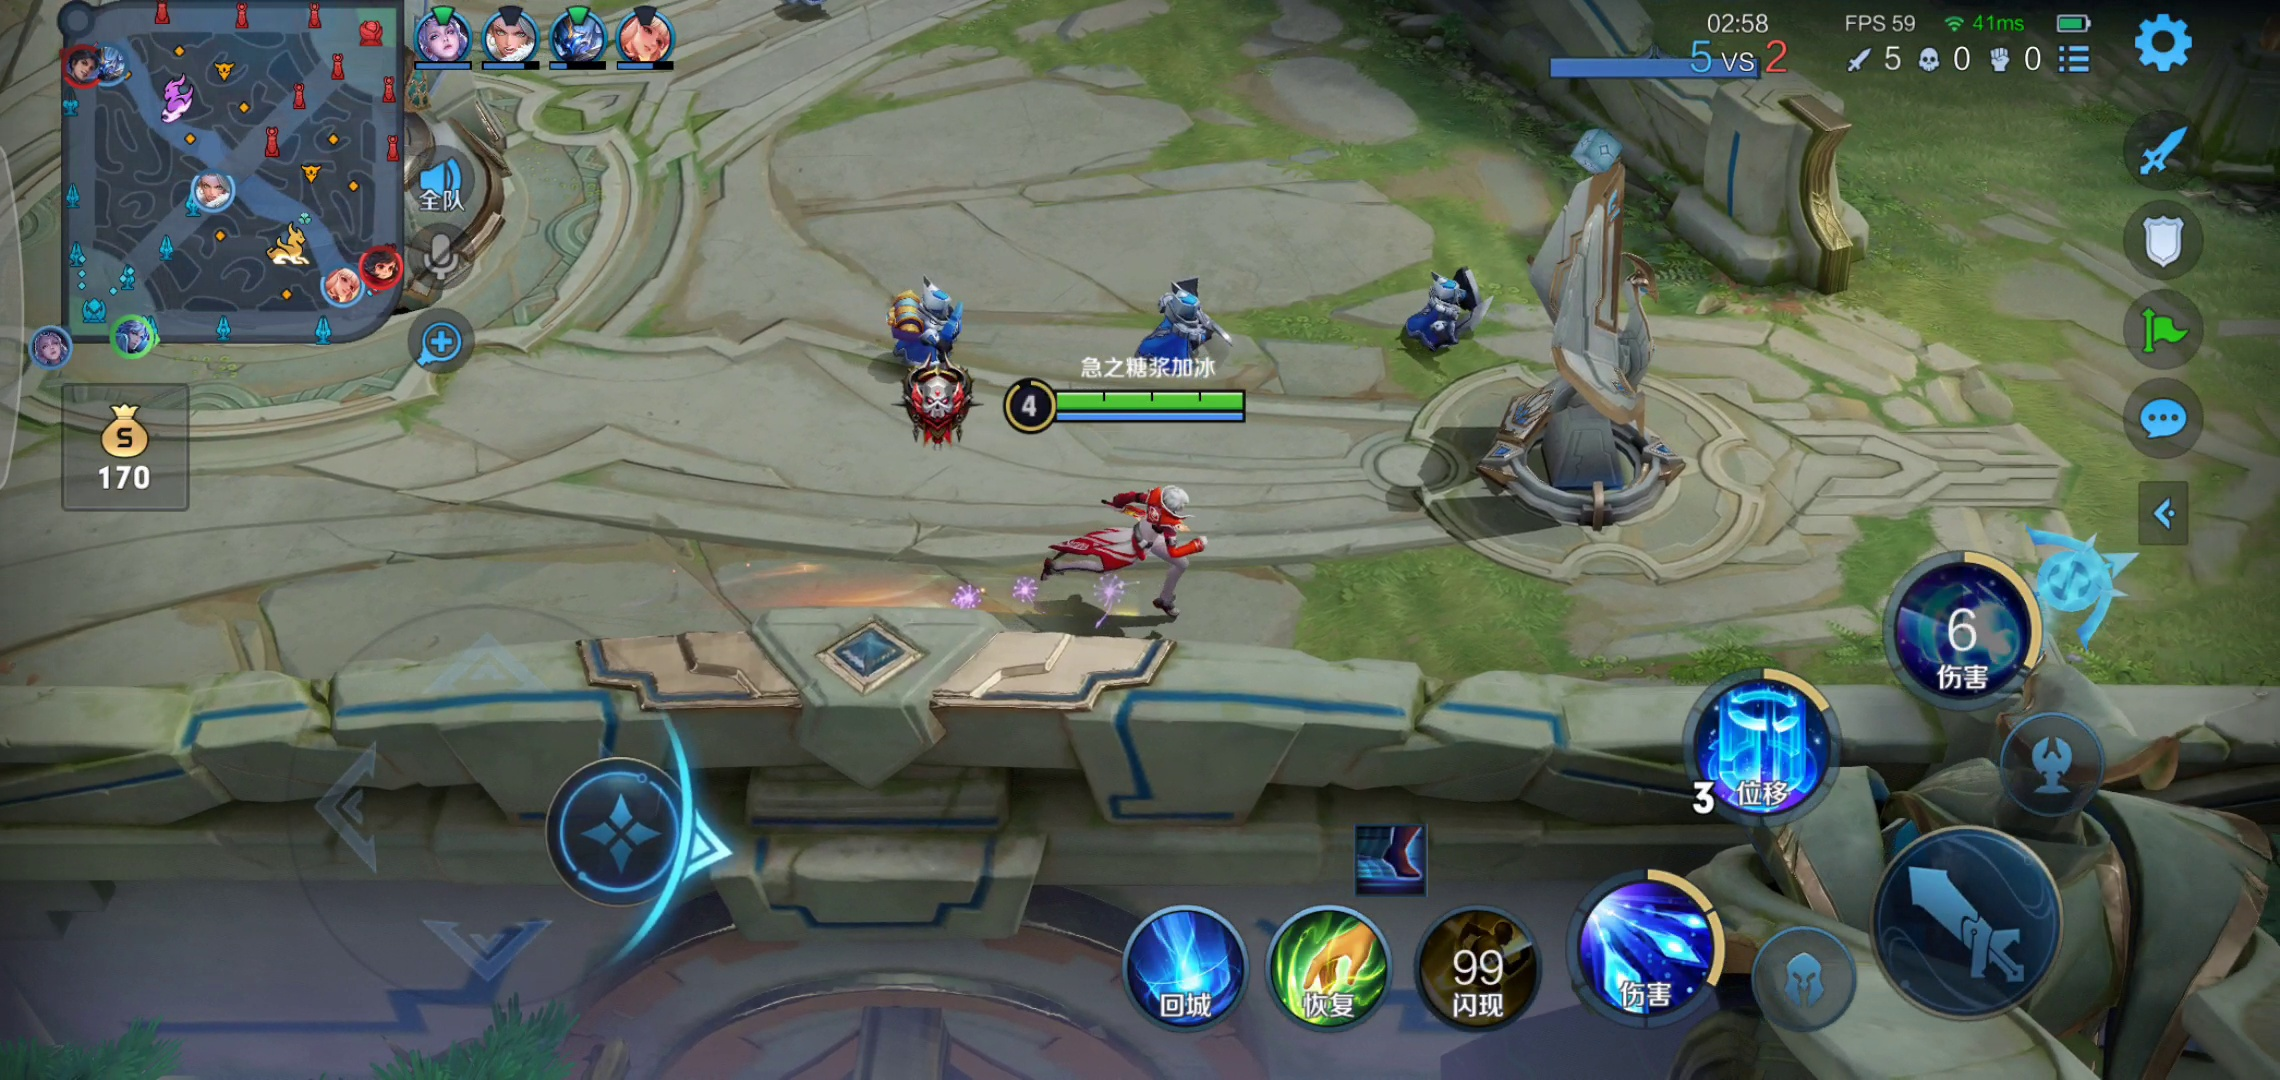crystal: (127, 36, 542, 333)
hero: (1031, 475, 1219, 626)
soldier: (874, 273, 973, 385), (1128, 281, 1229, 376), (1390, 267, 1489, 356)
tower: (1476, 142, 1684, 519)
